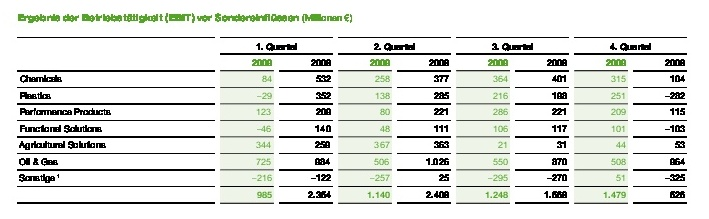table: (0, 0, 709, 219)
